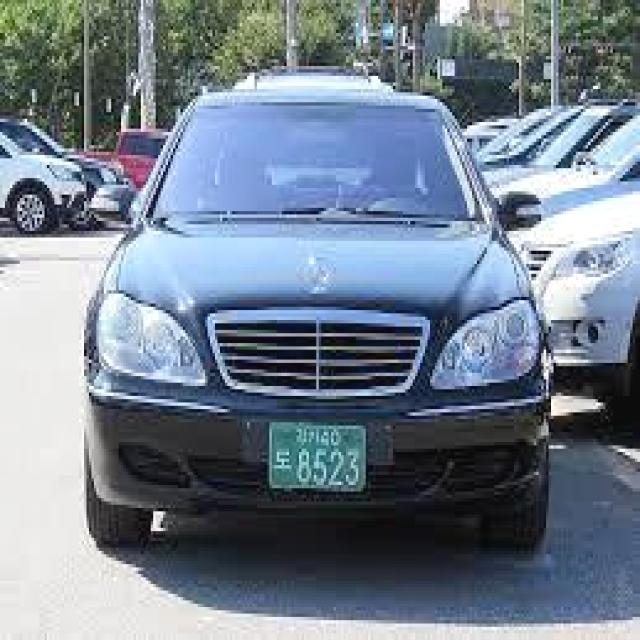car: (74, 80, 556, 566)
illegal_plate: (260, 411, 371, 506)
